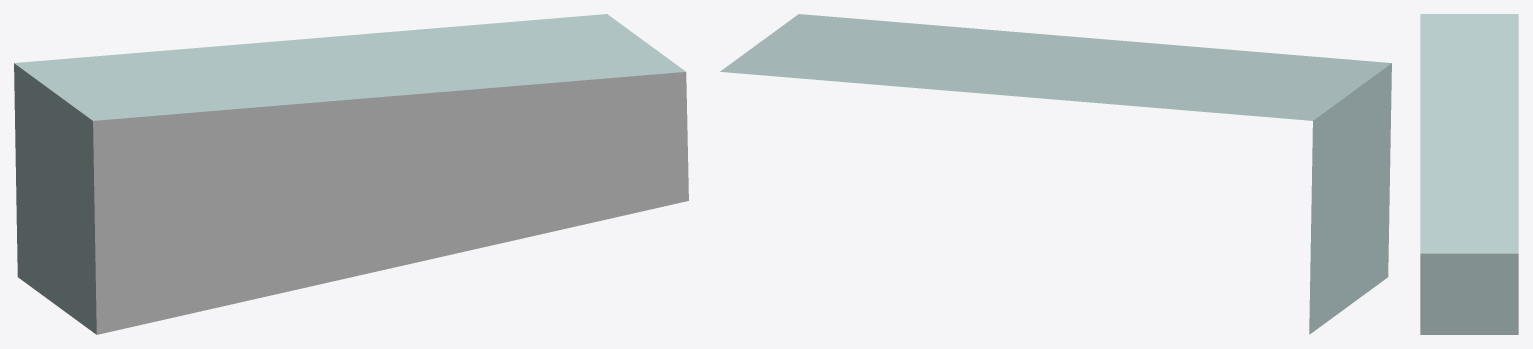
3 renders of one model, left to right at view 1: azimuth 30°, elevation 25°; view 2: azimuth 150°, elevation 25°; view 3: azimuth 270°, elevation 25°, orthographic. The views are drawn at different scales.
Parts seen in each view (by area): view 1: 0_0_2_1_0_1_0_1_3; view 2: 0_0_2_1_0_1_0_1_3; view 3: 0_0_2_1_0_1_0_1_3.
Part boxes in pixels (left/top/right/bottom): 0_0_2_1_0_1_0_1_3: left=14, top=14, right=688, bottom=334; 0_0_2_1_0_1_0_1_3: left=720, top=14, right=1391, bottom=334; 0_0_2_1_0_1_0_1_3: left=1420, top=14, right=1518, bottom=334.
Size of the model in its own units: 13.06 by 4.72 by 3.
